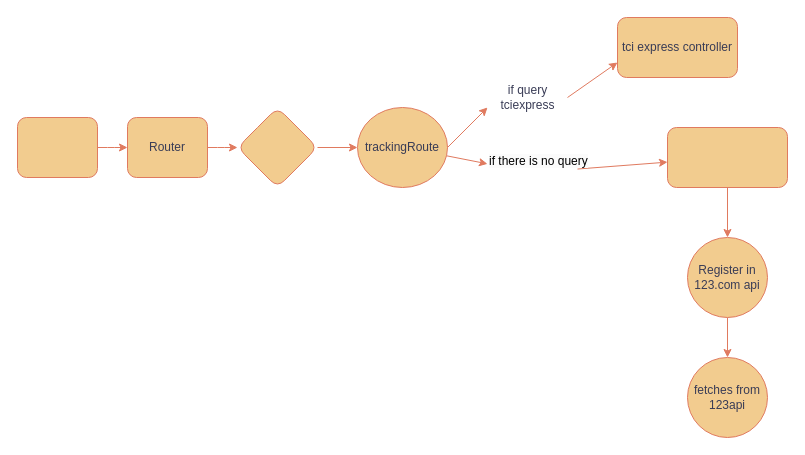
This 805x455 diagram has some shape labels left out. The shapes that lost their labels are listed below. From the top down, each one's box as (x1, y1, x2, y2) in pixels, then its label:
(16, 116, 98, 178): api/v1/
(236, 106, 318, 188): V1
(666, 126, 788, 188): tracking Controller
